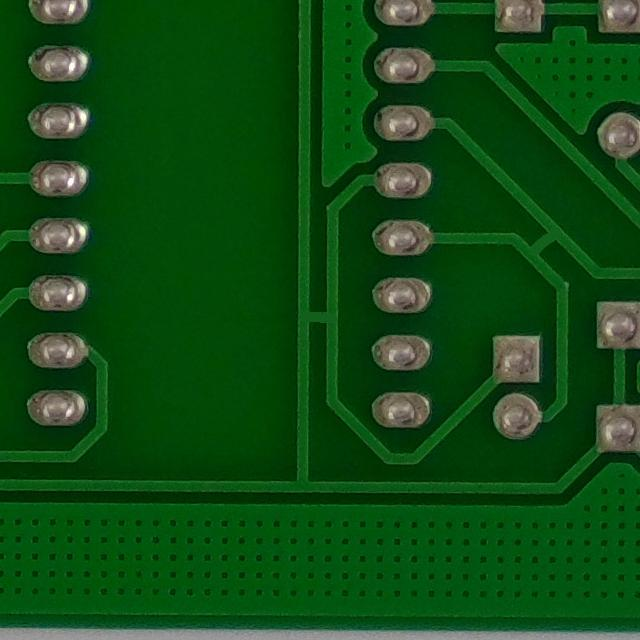short: (284, 290, 357, 350)
